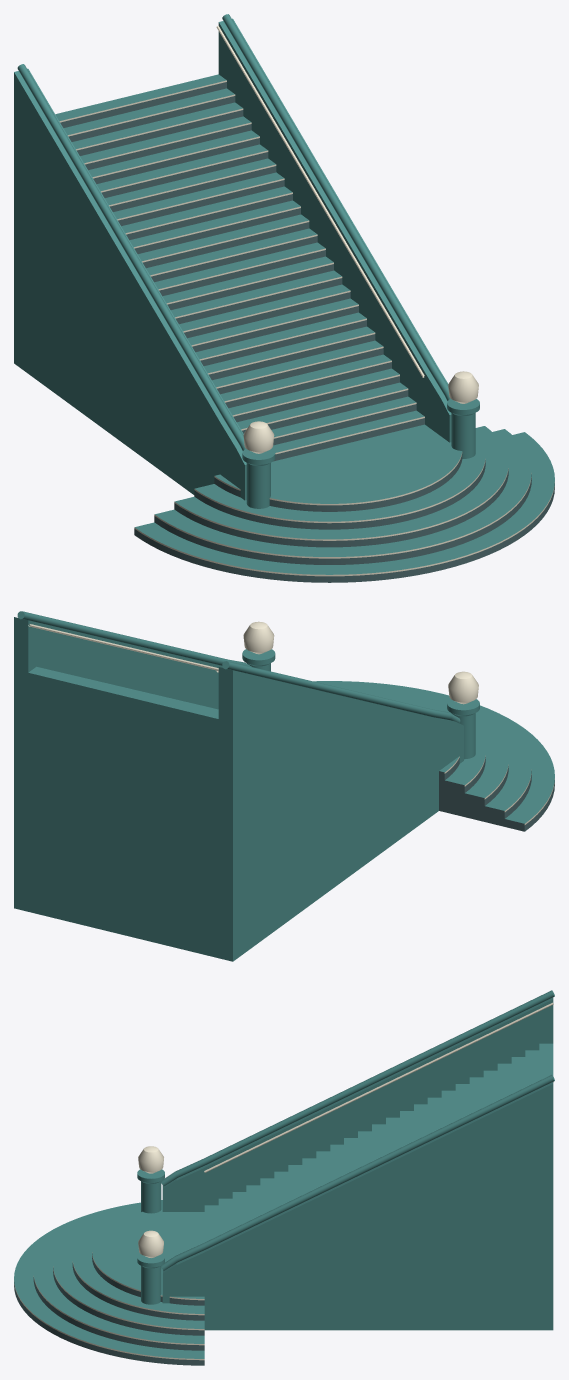
The model's file is KC32__AD_Arc_Stair_Grand_Blue.glb.
3 views of the same model, one above another, from view 1: azimuth 30°, elevation 25°; view 2: azimuth 150°, elevation 25°; view 3: azimuth 270°, elevation 25° (orthographic). The views are drawn at different scales.
Parts seen in each view (by area): view 1: KC32_CORPS__AD_Arc_Stair_Grand_Blue, KC32_LUMIERE__AD_Arc_Stair_Grand_Blue; view 2: KC32_CORPS__AD_Arc_Stair_Grand_Blue, KC32_LUMIERE__AD_Arc_Stair_Grand_Blue; view 3: KC32_CORPS__AD_Arc_Stair_Grand_Blue, KC32_LUMIERE__AD_Arc_Stair_Grand_Blue.
Boxes of the visible parts, box(x1,y1,x2,y2) form: KC32_CORPS__AD_Arc_Stair_Grand_Blue: box(14, 14, 554, 582); KC32_LUMIERE__AD_Arc_Stair_Grand_Blue: box(59, 26, 554, 576); KC32_CORPS__AD_Arc_Stair_Grand_Blue: box(14, 611, 554, 961); KC32_LUMIERE__AD_Arc_Stair_Grand_Blue: box(28, 621, 554, 824); KC32_CORPS__AD_Arc_Stair_Grand_Blue: box(14, 990, 554, 1365); KC32_LUMIERE__AD_Arc_Stair_Grand_Blue: box(14, 1002, 553, 1360).
Bounding box in the file's own units: 8.2 × 5.99 × 11.64.
